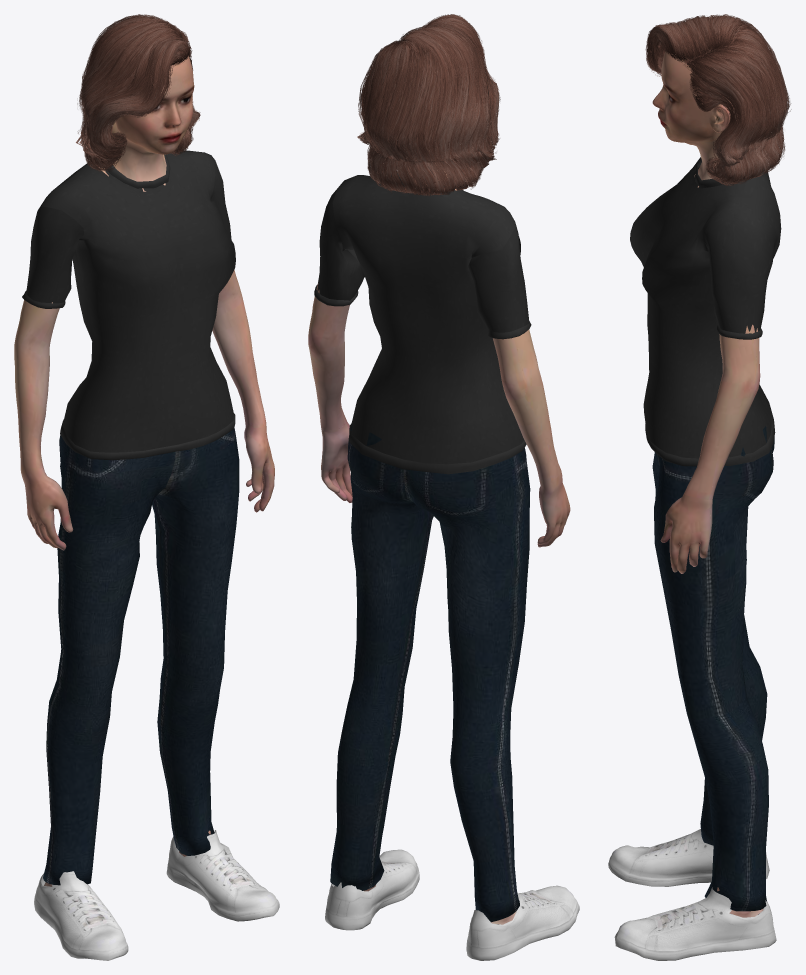
The model's file is avthar2.glb.
3 views of the same model, side by side, from view 1: azimuth 30°, elevation 25°; view 2: azimuth 150°, elevation 25°; view 3: azimuth 270°, elevation 25° (orthographic).
Visible parts, largest first — view 1: avaturn_look_0, avaturn_look_1, avaturn_body, avaturn_shoes_0, avaturn_hair_1, avaturn_hair_0; view 2: avaturn_look_0, avaturn_look_1, avaturn_hair_0, avaturn_hair_1, avaturn_body, avaturn_shoes_0; view 3: avaturn_look_0, avaturn_look_1, avaturn_body, avaturn_hair_1, avaturn_shoes_0, avaturn_hair_0.
Part boxes in pixels (x1,y1,x2,y2): avaturn_look_0: [43, 428, 239, 885]; avaturn_look_1: [22, 150, 235, 460]; avaturn_body: [14, 50, 274, 886]; avaturn_shoes_0: [34, 830, 279, 960]; avaturn_hair_1: [76, 14, 200, 171]; avaturn_hair_0: [80, 16, 200, 169]; avaturn_look_0: [330, 424, 530, 922]; avaturn_look_1: [314, 173, 531, 474]; avaturn_hair_0: [357, 14, 498, 195]; avaturn_hair_1: [358, 14, 500, 196]; avaturn_body: [308, 45, 570, 924]; avaturn_shoes_0: [325, 849, 579, 960]; avaturn_look_0: [652, 426, 774, 911]; avaturn_look_1: [630, 157, 781, 466]; avaturn_body: [652, 41, 768, 917]; avaturn_hair_1: [645, 14, 791, 185]; avaturn_shoes_0: [608, 829, 776, 960]; avaturn_hair_0: [647, 16, 787, 185].
Size of the model in its own units: 0.5045 by 1.8 by 0.3346.
Materials: 6 (6 with a texture image).
